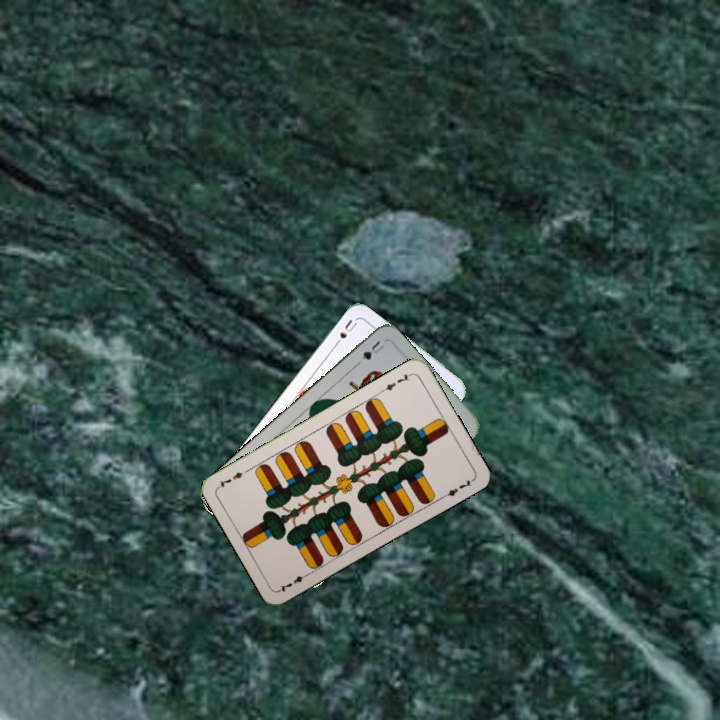E7: (276, 569, 313, 595), (378, 369, 415, 394)
GU: (353, 336, 387, 367)
SU: (330, 315, 360, 350)
